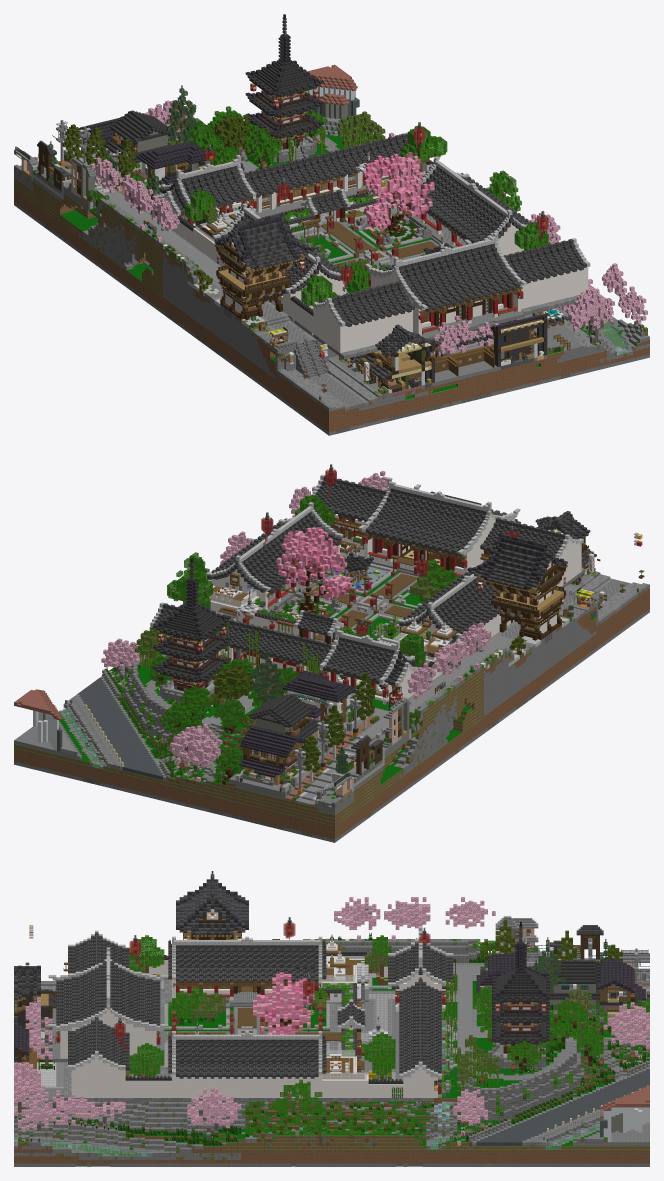
Rendered from demo8.glb.
3 renders of one model, top to bottom at view 1: azimuth 30°, elevation 25°; view 2: azimuth 150°, elevation 25°; view 3: azimuth 270°, elevation 25°, orthographic.
Parts seen in each view (by area): view 1: minecraft_block-deepslate_bricks, minecraft_block-stone, minecraft_block-dirt, minecraft_block-quartz_block_bottom, minecraft_block-deepslate_tiles, minecraft_block-cherry_leaves, minecraft_block-diorite, minecraft_block-oak_leaves, minecraft_block-polished_blackstone, minecraft_block-grass_block_side, minecraft_block-andesite, minecraft_block-stone_bricks (+29 smaller); view 2: minecraft_block-deepslate_bricks, minecraft_block-stone, minecraft_block-dirt, minecraft_block-grass_block_side, minecraft_block-deepslate_tiles, minecraft_block-diorite, minecraft_block-cherry_leaves, minecraft_block-quartz_block_bottom, minecraft_block-oak_leaves, minecraft_block-polished_blackstone, minecraft_block-andesite, minecraft_block-stone_bricks (+36 smaller); view 3: minecraft_block-deepslate_bricks, minecraft_block-cherry_leaves, minecraft_block-quartz_block_bottom, minecraft_block-cobblestone, minecraft_block-stone, minecraft_block-grass_block_side, minecraft_block-deepslate_tiles, minecraft_block-grass_block_top, minecraft_block-oak_leaves, minecraft_block-diorite, minecraft_block-dirt, minecraft_block-acacia_leaves (+41 smaller).
Boxes of the visible parts, x1,y1,x2,y2 form: minecraft_block-deepslate_bricks: (161, 133, 586, 342); minecraft_block-stone: (14, 138, 649, 435); minecraft_block-dirt: (14, 191, 649, 432); minecraft_block-quartz_block_bottom: (141, 161, 588, 382); minecraft_block-deepslate_tiles: (104, 61, 560, 377); minecraft_block-cherry_leaves: (90, 100, 647, 355); minecraft_block-diorite: (54, 142, 590, 359); minecraft_block-oak_leaves: (50, 106, 548, 306); minecraft_block-polished_blackstone: (79, 34, 547, 392); minecraft_block-grass_block_side: (14, 171, 647, 403); minecraft_block-andesite: (52, 114, 643, 409); minecraft_block-stone_bricks: (14, 122, 544, 409); minecraft_block-deepslate_bricks: (153, 475, 579, 689); minecraft_block-stone: (14, 538, 649, 842); minecraft_block-dirt: (14, 588, 649, 839); minecraft_block-grass_block_side: (14, 538, 596, 828); minecraft_block-deepslate_tiles: (156, 512, 594, 738); minecraft_block-diorite: (150, 474, 591, 801); minecraft_block-cherry_leaves: (101, 471, 515, 781); minecraft_block-quartz_block_bottom: (165, 506, 636, 720); minecraft_block-oak_leaves: (150, 494, 459, 781); minecraft_block-polished_blackstone: (153, 491, 563, 777); minecraft_block-andesite: (59, 505, 640, 804); minecraft_block-stone_bricks: (65, 464, 629, 805); minecraft_block-deepslate_bricks: (14, 932, 453, 1078); minecraft_block-cherry_leaves: (14, 897, 649, 1145); minecraft_block-quartz_block_bottom: (29, 909, 453, 1097); minecraft_block-cobblestone: (14, 939, 649, 1159); minecraft_block-stone: (14, 939, 649, 1166); minecraft_block-grass_block_side: (18, 1020, 649, 1159); minecraft_block-deepslate_tiles: (14, 871, 599, 1083); minecraft_block-grass_block_top: (21, 939, 649, 1154); minecraft_block-oak_leaves: (129, 935, 649, 1077); minecraft_block-diorite: (37, 926, 641, 1086); minecraft_block-dirt: (14, 1064, 649, 1163); minecraft_block-acacia_leaves: (241, 939, 588, 1135).
Bounding box in the file's own units: 97 × 54 × 165.
Materials: 387 (385 with a texture image).
